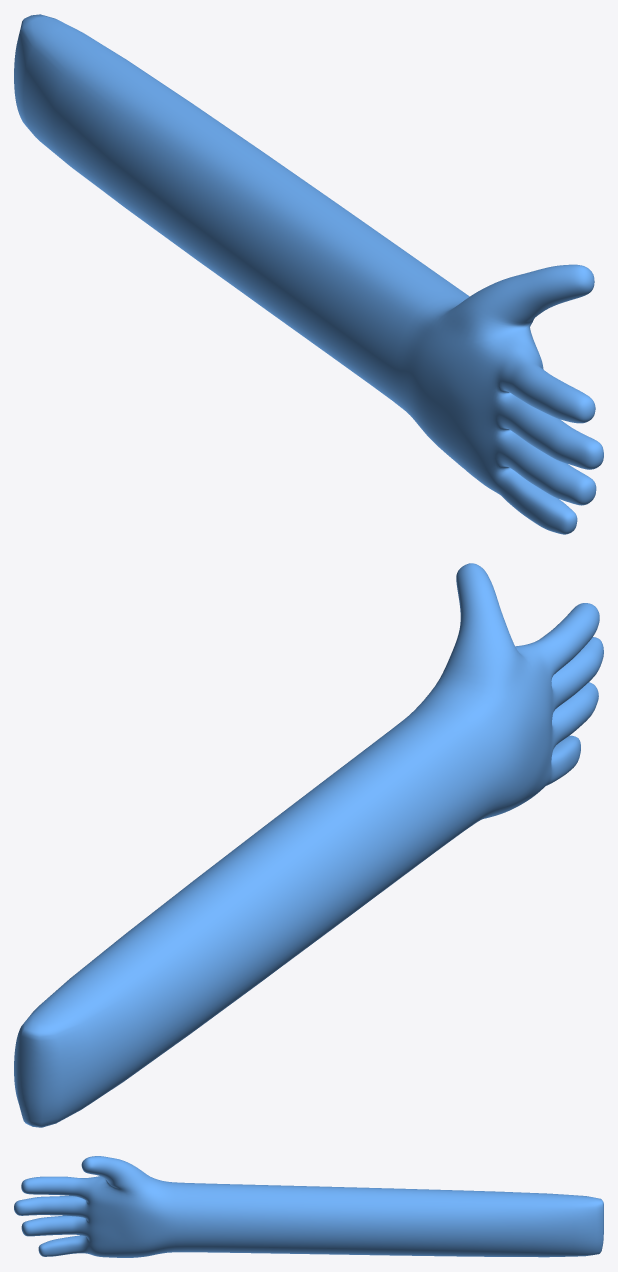
Rendered from hand.fbx.
3 views of the same model, one above another, from view 1: azimuth 30°, elevation 25°; view 2: azimuth 150°, elevation 25°; view 3: azimuth 270°, elevation 25° (orthographic). The views are drawn at different scales.
Parts seen in each view (by area): view 1: Right Hand Base; view 2: Right Hand Base; view 3: Right Hand Base.
Part boxes in pixels (x1,y1,x2,y2): Right Hand Base: [14, 14, 603, 534]; Right Hand Base: [14, 563, 603, 1127]; Right Hand Base: [14, 1156, 603, 1257].
Size of the model in its own units: 287 by 507 by 2400.
